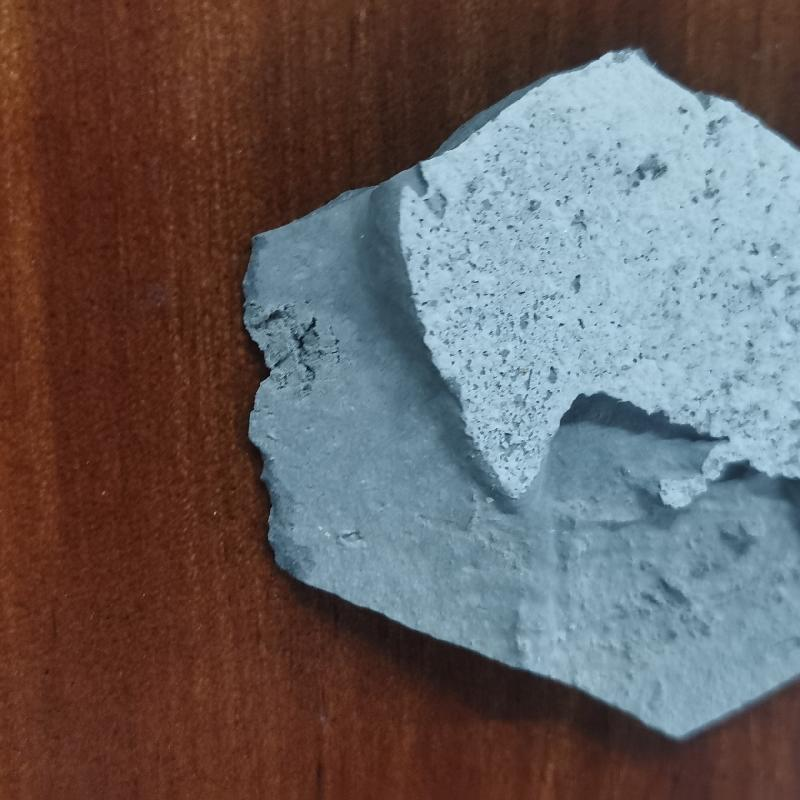tile: (230, 40, 799, 731)
